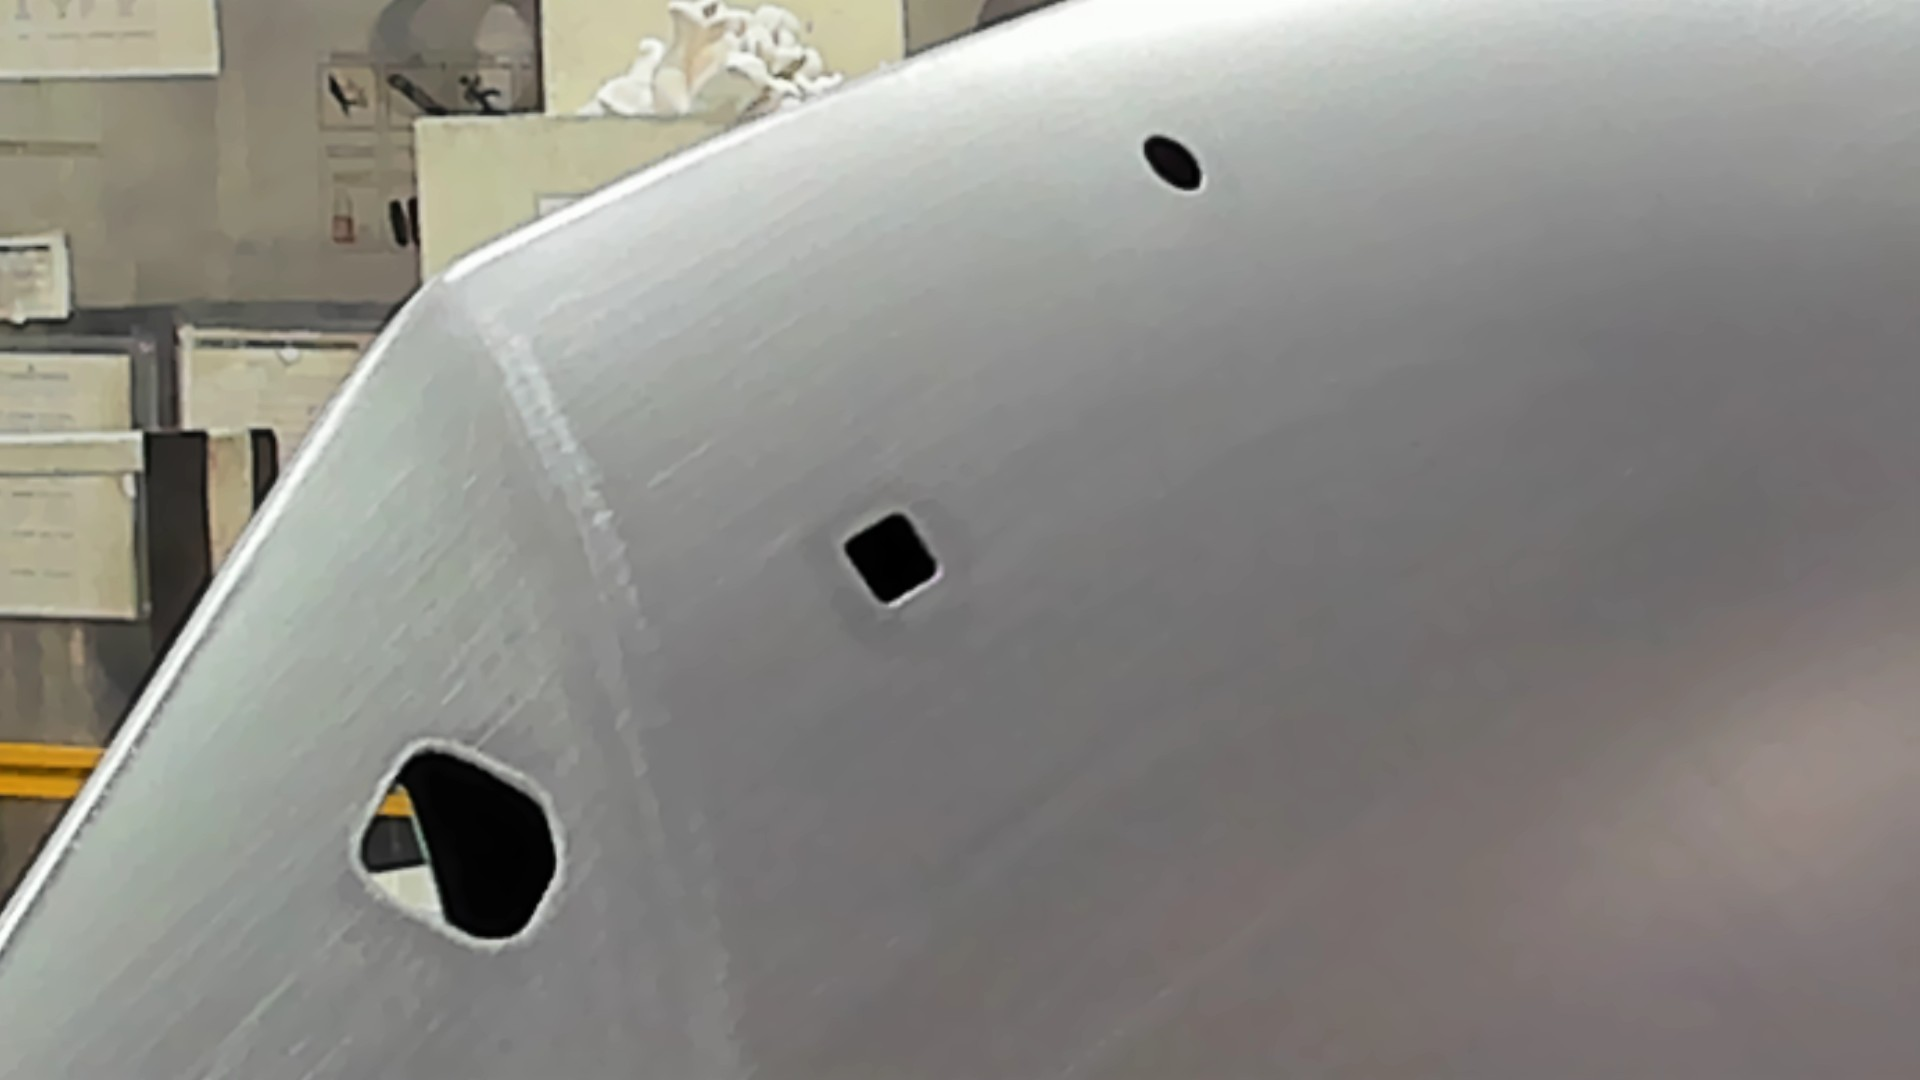capo: (951, 203, 1920, 1080)
chico: (1137, 127, 1215, 200)
grande: (345, 735, 570, 953)
mediano: (837, 506, 943, 617)
